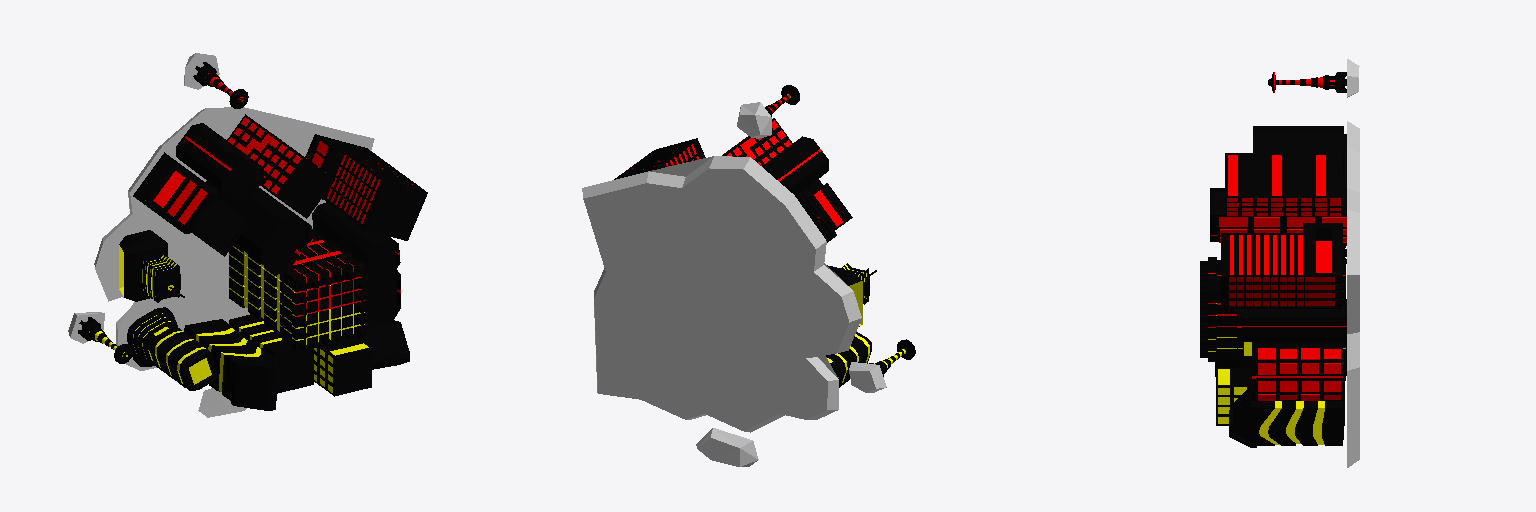
The model's file is ville4.obj.
3 renders of one model, left to right at view 1: azimuth 30°, elevation 25°; view 2: azimuth 150°, elevation 25°; view 3: azimuth 270°, elevation 25°, orthographic.
Visible parts, largest first — view 1: Cube, Plane; view 2: Plane, Cube; view 3: Cube, Plane.
Boxes of the visible parts, box(x1,y1,x2,y2) form: Cube: box(78, 62, 427, 410); Plane: box(68, 53, 374, 417); Plane: box(582, 102, 886, 466); Cube: box(614, 85, 915, 387); Cube: box(1200, 72, 1346, 447); Plane: box(1347, 59, 1359, 467).
Size of the model in its own units: 158 by 183 by 71.87.